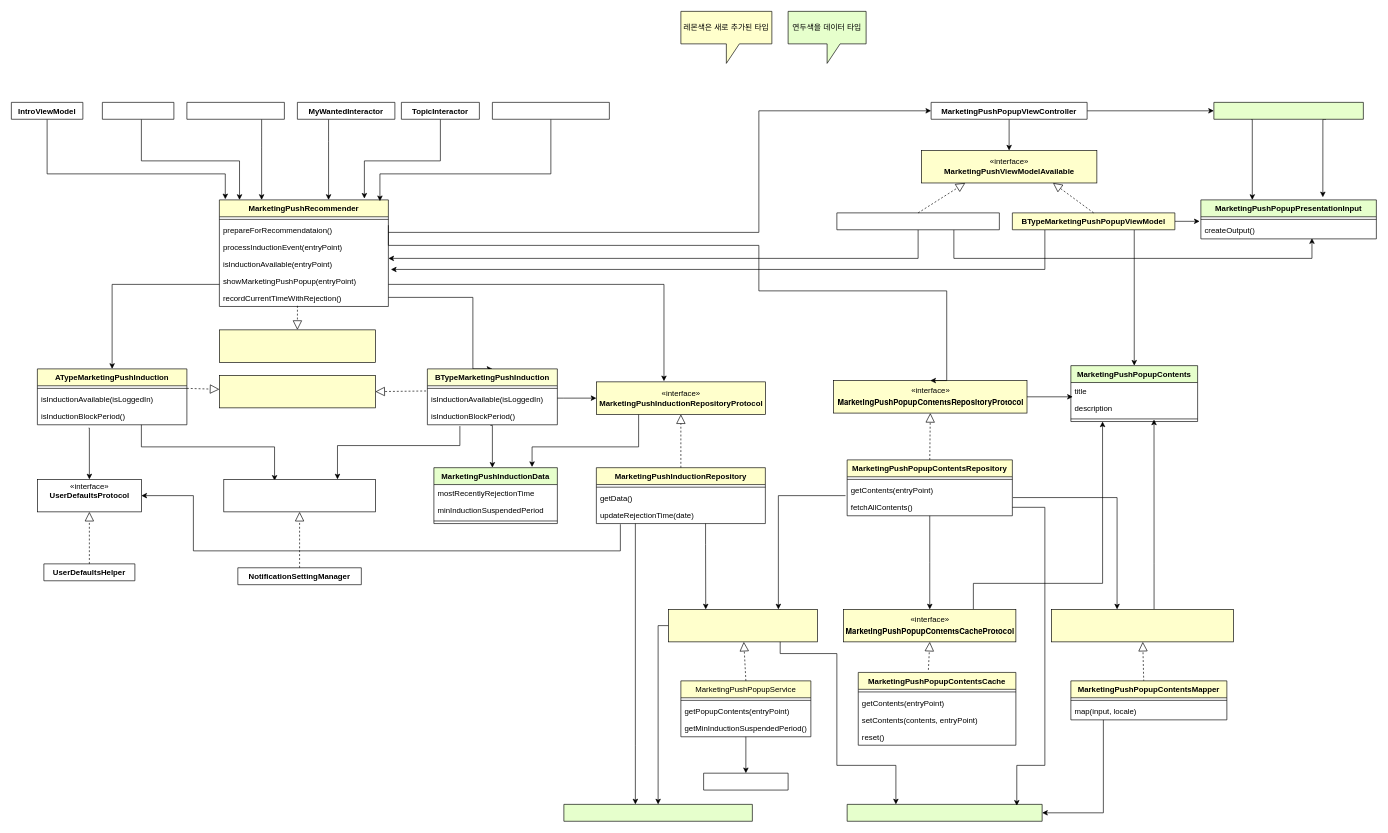
Some shapes in this 1388 by 833 pixel diagram are drawn without their labels. The centre of each missing label's shape, as x and y in pixels:
"AppDelegate" goes at (x=138, y=110).
"ATypeMarketingPushPopupViewModel" goes at (x=917, y=221).
"DoRunListViewModel" goes at (x=235, y=110).
"FirestoreService" goes at (x=745, y=781).
"MarketingPushAgreeIntervalResponseModel" goes at (x=657, y=812).
"MarketingPushAgreePopupInfoResponseModel" goes at (x=944, y=812).
"MarketingPushPopupPresentation" goes at (x=1288, y=110).
"NotificationViewController" goes at (x=550, y=110).
"«interface» MarketingPushInductionAvailable" goes at (x=297, y=391).
"«interface» MarketingPushPopupContentsMapperProtocol" goes at (x=1142, y=625).
"«interface» MarketingPushPopupServiceProtocol" goes at (x=742, y=625).
"«interface» MarketingPushRecommenderProtocol" goes at (x=297, y=345).
"«interface» NotificationSettingManagerProtocol" goes at (x=299, y=495).
